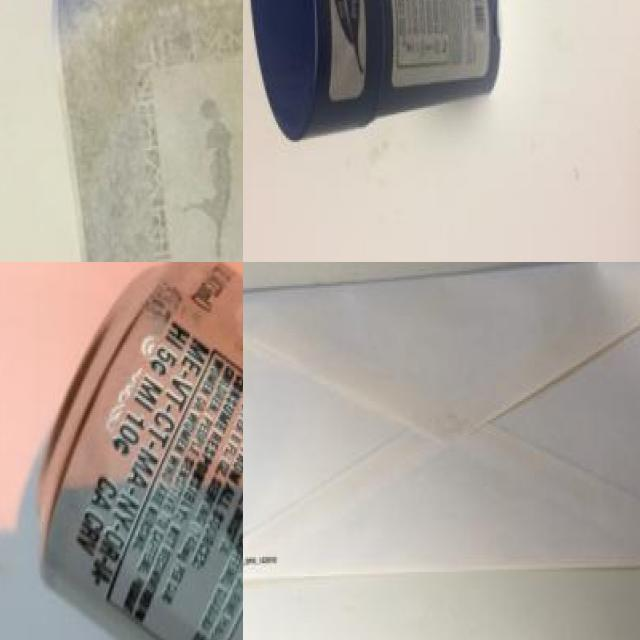paper: (243, 267, 640, 585), (50, 0, 243, 262)
plastic: (37, 262, 243, 640)
trash: (244, 0, 523, 164)
